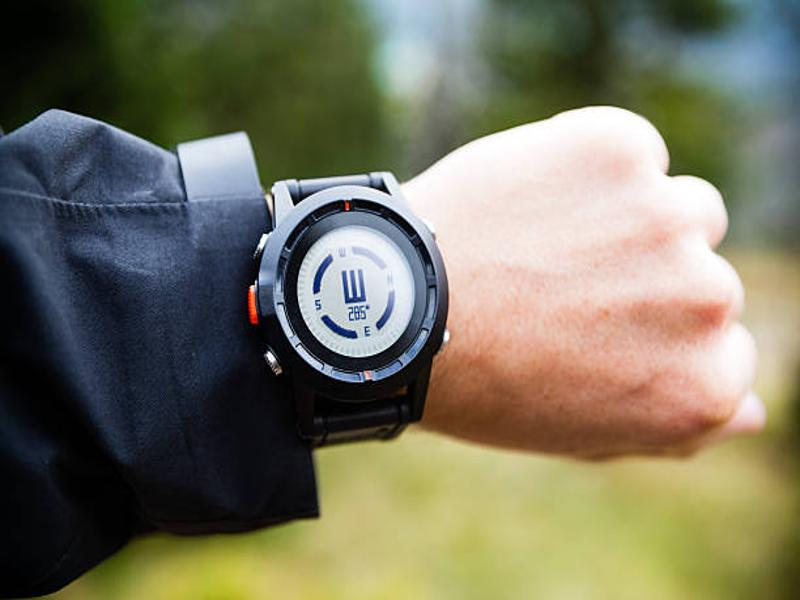watch: (242, 171, 452, 451)
